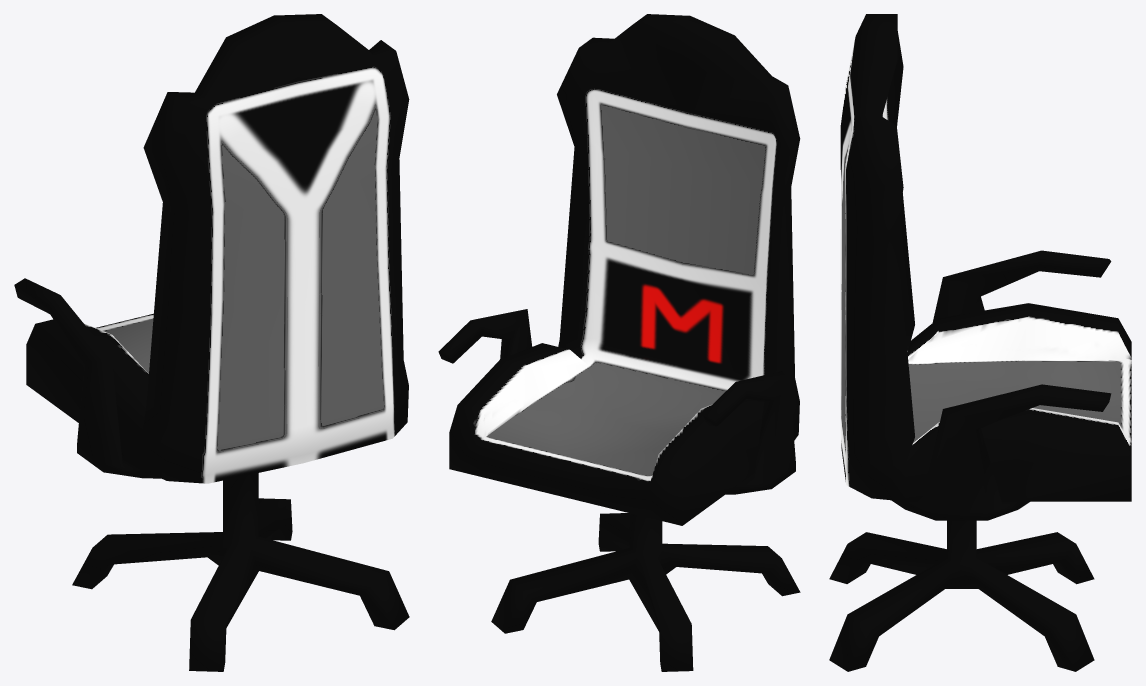
The model's file is chair.glb.
The picture shows the model from 3 angles, left to right: view 1: azimuth 30°, elevation 25°; view 2: azimuth 150°, elevation 25°; view 3: azimuth 270°, elevation 25°; orthographic projection. The views are drawn at different scales.
Parts seen in each view (by area): view 1: Cube.003; view 2: Cube.003; view 3: Cube.003.
Part boxes in pixels (left/top/right/bottom): Cube.003: left=14, top=14, right=409, bottom=671; Cube.003: left=438, top=14, right=800, bottom=671; Cube.003: left=829, top=14, right=1131, bottom=671.
Size of the model in its own units: 0.7305 by 1.41 by 0.6537.
Materials: 1 (1 with a texture image).
